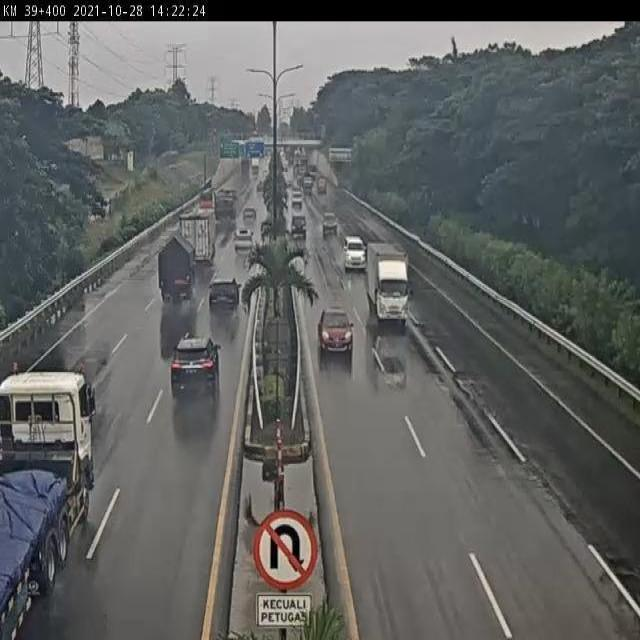ARABA: (167, 334, 220, 406), (320, 304, 355, 351), (204, 277, 241, 319), (343, 236, 367, 271), (231, 227, 253, 256)
KAMYONET: (363, 240, 409, 324), (156, 235, 196, 302)
TIR: (0, 365, 97, 640), (174, 209, 218, 268)
